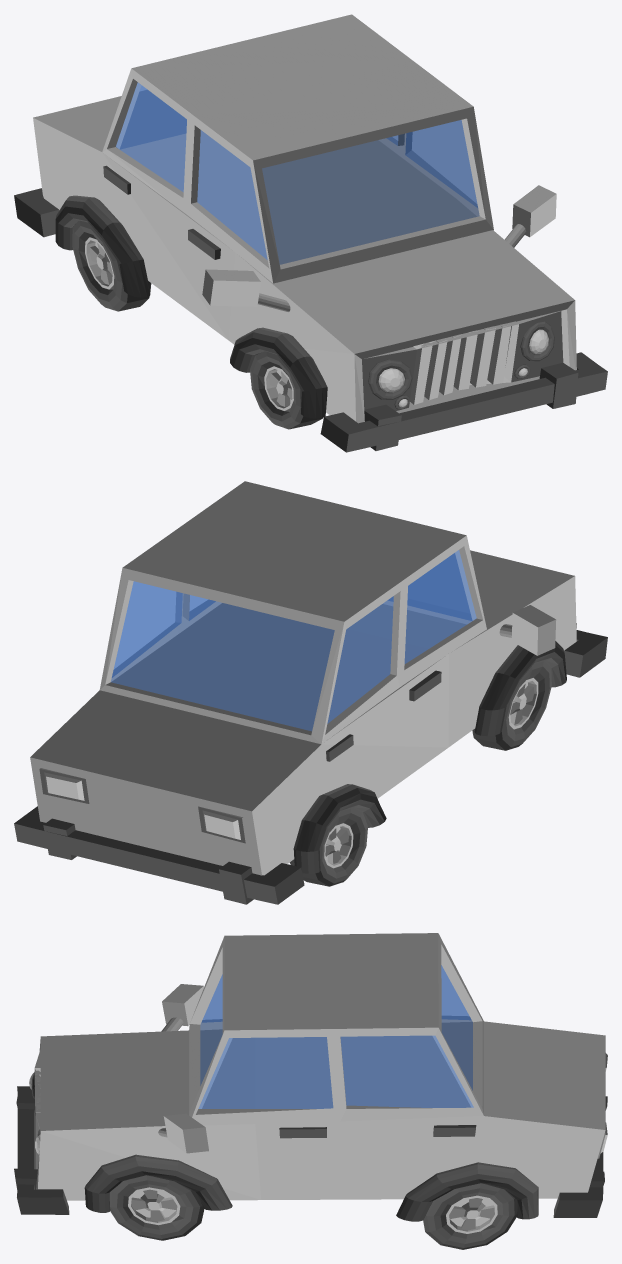
The model's file is CARNEW.fbx.
3 views of the same model, one above another, from view 1: azimuth 30°, elevation 25°; view 2: azimuth 150°, elevation 25°; view 3: azimuth 270°, elevation 25° (orthographic). The views are drawn at different scales.
Visible parts, largest first — view 1: CAR; view 2: CAR; view 3: CAR.
Boxes of the visible parts, x1=… form: CAR: x1=14, y1=14, x2=607, y2=452; CAR: x1=14, y1=481, x2=607, y2=904; CAR: x1=14, y1=933, x2=607, y2=1249.
Size of the model in its own units: 7.86 by 13.29 by 5.42.
